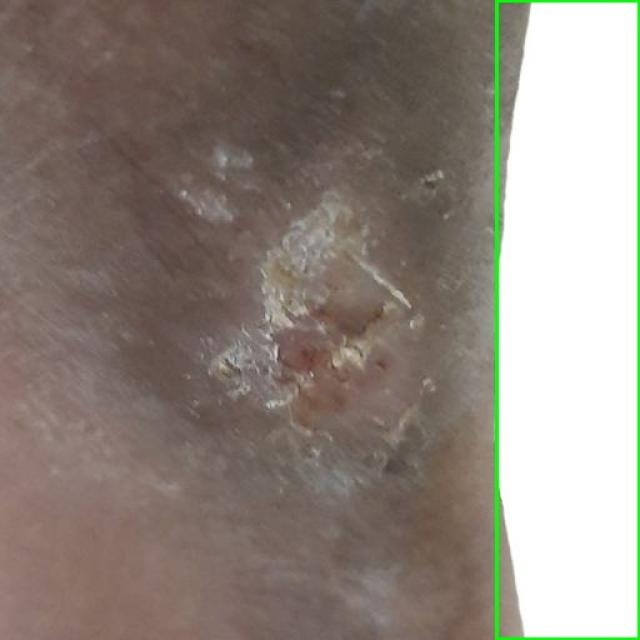Eczema: (496, 0, 639, 639)
